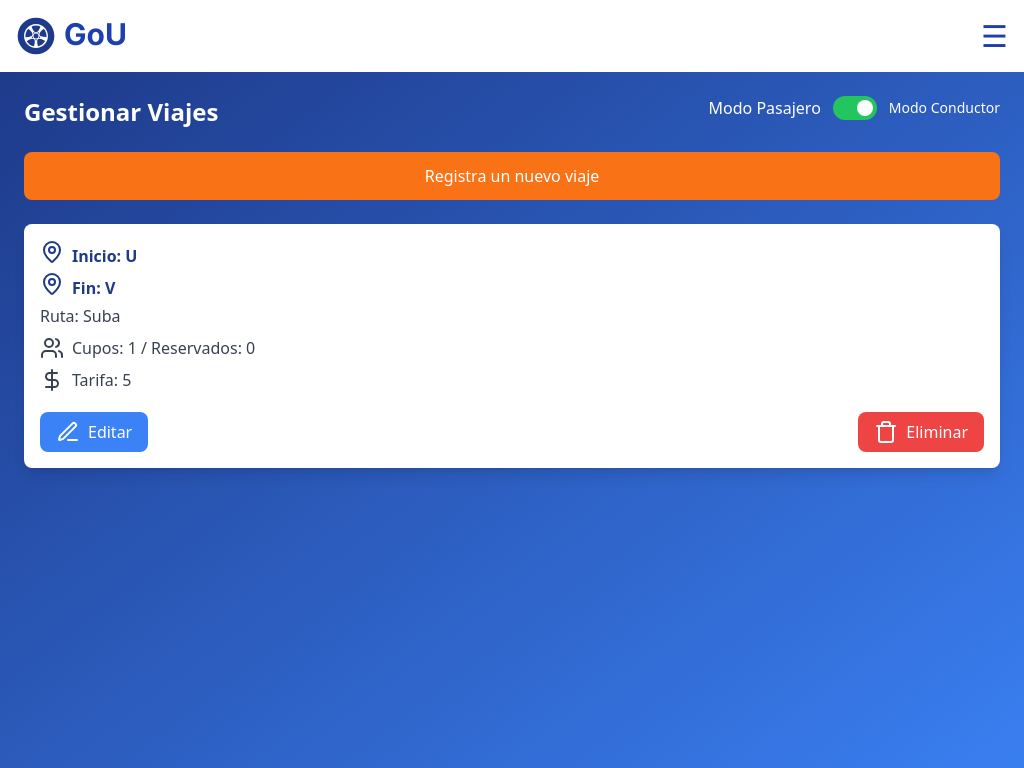
Test: 🗺️ ManageTrips E2E › handleDelete elimina un viaje de la lista
Click the button "Eliminar". click: {"x": 921, "y": 432}
box: [858, 412, 984, 452]
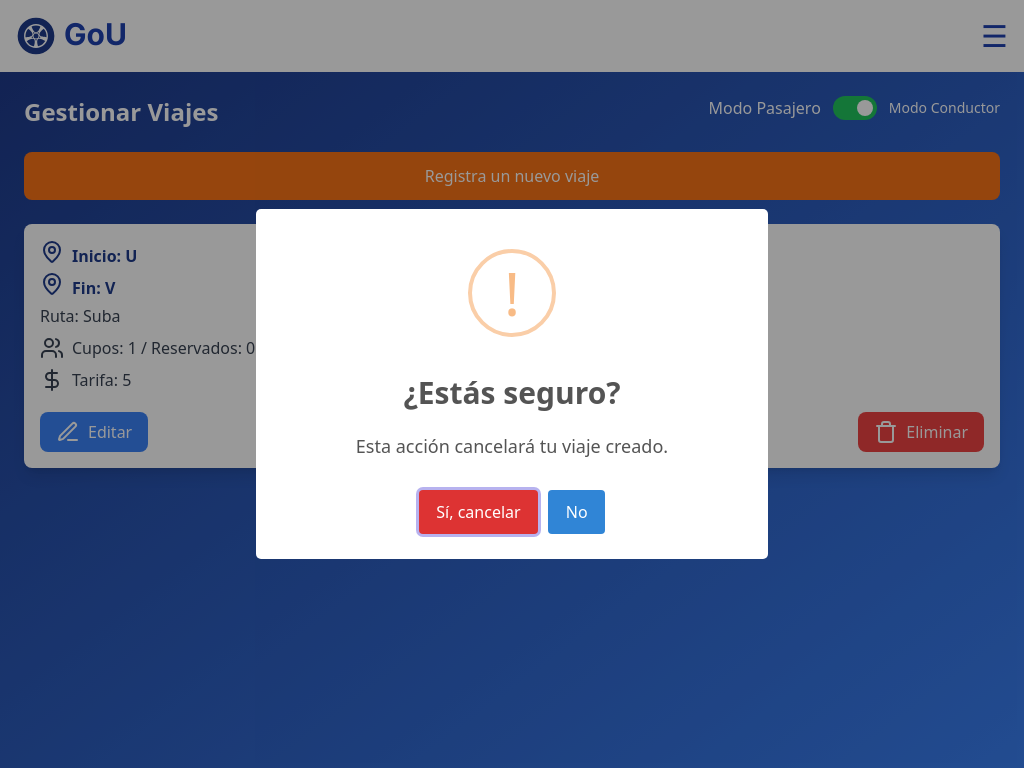
Click the button with class "swal2-confirm". click: {"x": 479, "y": 513}
box: [419, 491, 539, 535]
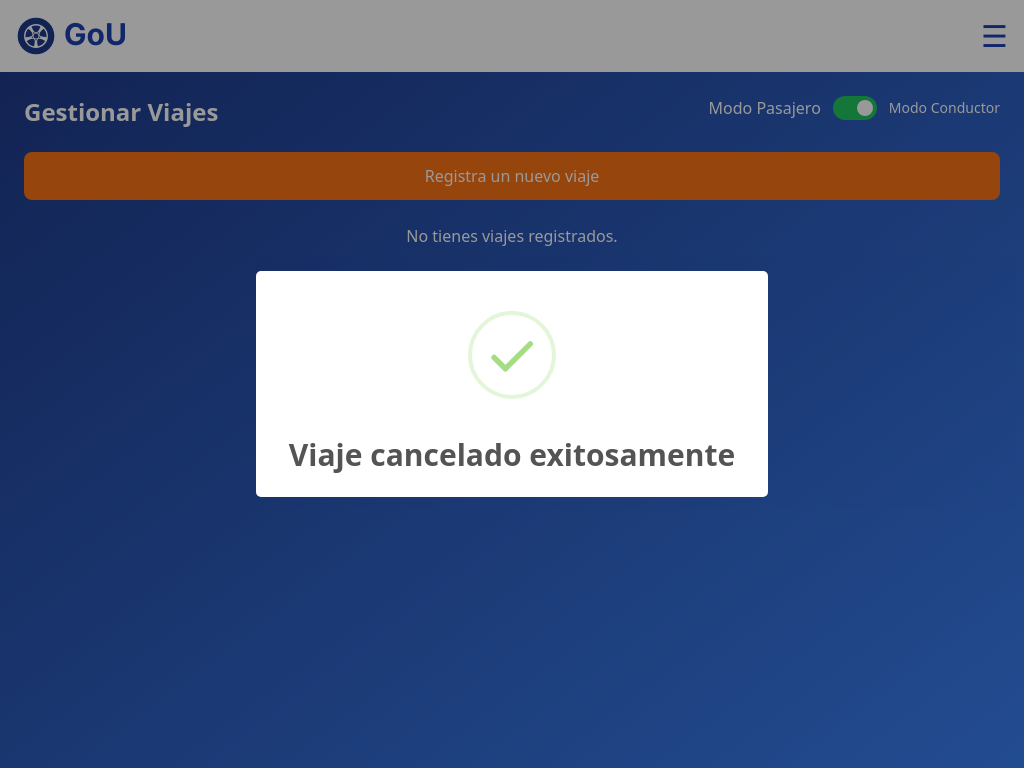
Now the dialog with class "swal2-icon-success" is shown, box [256, 271, 768, 498]
Now the text "Inicio: U" is gone
